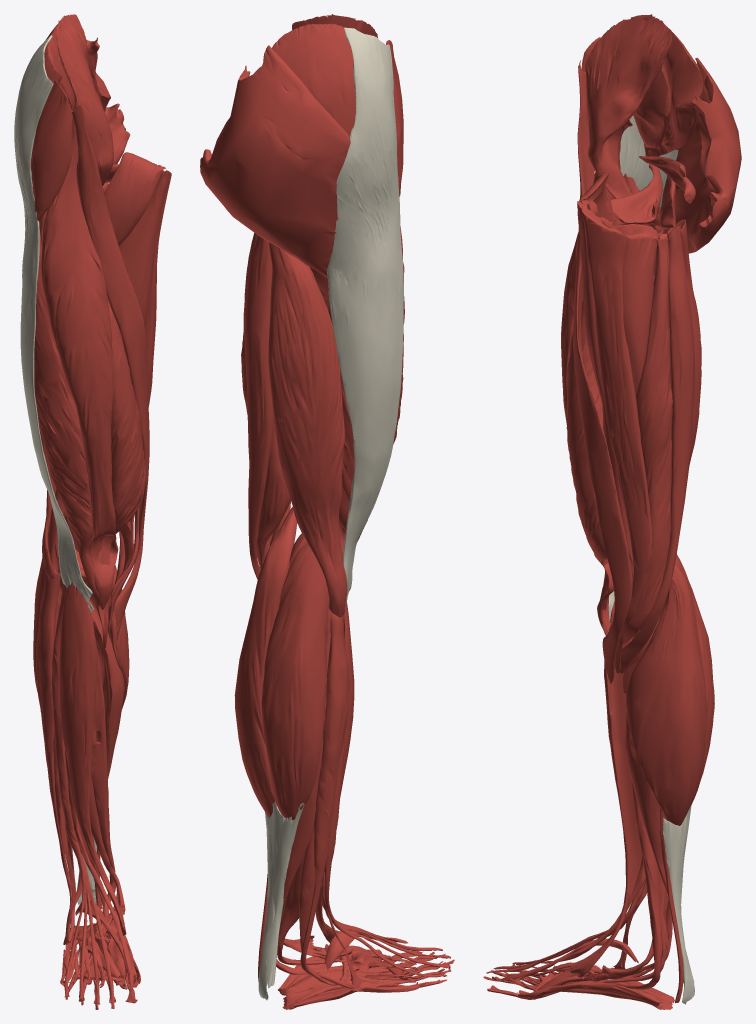
The model's file is muscular.lower_limb_right.glb.
3 renders of one model, left to right at view 1: azimuth 30°, elevation 25°; view 2: azimuth 150°, elevation 25°; view 3: azimuth 270°, elevation 25°, orthographic. The views are drawn at different scales.
Visible parts, largest first — view 1: right_rectus_femoris, right_iliotibial_tract, right_vastus_lateralis, right_sartorius, right_tibialis_anterior, right_vastus_medialis, right_extensor_digitorum_longus, right_tensor_fasciae_latae, right_iliacus, right_fibularis_longus, right_pectineus, right_adductor_longus (+19 smaller); view 2: right_iliotibial_tract, right_gluteus_maximus, long_head_of_right_biceps_femoris, lateral_head_of_right_gastrocnemius, medial_head_of_right_gastrocnemius, right_semitendinosus, right_fibularis_longus, right_gluteus_medius, right_calcaneal_tendon, right_semimembranosus, right_extensor_digitorum_longus, right_soleus (+11 smaller); view 3: medial_head_of_right_gastrocnemius, right_gracilis, right_semimembranosus, right_iliacus, right_sartorius, right_semitendinosus, right_gluteus_maximus, right_adductor_magnus, right_tibialis_anterior, right_vastus_medialis, right_gluteus_medius, right_rectus_femoris (+18 smaller).
Part boxes in pixels (left/top/right/bottom): right_rectus_femoris: left=41, top=120, right=118, bottom=609; right_iliotibial_tract: left=14, top=35, right=93, bottom=612; right_vastus_lateralis: left=34, top=210, right=100, bottom=607; right_sartorius: left=69, top=99, right=149, bottom=640; right_tibialis_anterior: left=59, top=582, right=126, bottom=935; right_vastus_medialis: left=98, top=299, right=146, bottom=565; right_extensor_digitorum_longus: left=52, top=583, right=114, bottom=1004; right_tensor_fasciae_latae: left=30, top=80, right=72, bottom=220; right_iliacus: left=56, top=14, right=113, bottom=186; right_fibularis_longus: left=36, top=570, right=110, bottom=943; right_pectineus: left=103, top=152, right=165, bottom=245; right_adductor_longus: left=119, top=171, right=169, bottom=323; right_iliotibial_tract: left=327, top=27, right=403, bottom=604; right_gluteus_maximus: left=200, top=45, right=350, bottom=278; long_head_of_right_biceps_femoris: left=268, top=242, right=347, bottom=617; lateral_head_of_right_gastrocnemius: left=261, top=543, right=329, bottom=820; medial_head_of_right_gastrocnemius: left=234, top=507, right=297, bottom=817; right_semitendinosus: left=244, top=235, right=274, bottom=579; right_fibularis_longus: left=300, top=613, right=353, bottom=985; right_gluteus_medius: left=272, top=23, right=355, bottom=136; right_calcaneal_tendon: left=258, top=802, right=304, bottom=1000; right_semimembranosus: left=241, top=233, right=290, bottom=569; right_extensor_digitorum_longus: left=324, top=614, right=450, bottom=977; right_soleus: left=283, top=608, right=331, bottom=901; medial_head_of_right_gastrocnemius: left=626, top=562, right=706, bottom=825; right_gracilis: left=581, top=205, right=652, bottom=673; right_semimembranosus: left=622, top=233, right=672, bottom=644; right_iliacus: left=585, top=14, right=672, bottom=229; right_sartorius: left=573, top=60, right=632, bottom=683; right_semitendinosus: left=620, top=225, right=694, bottom=673; right_gluteus_maximus: left=653, top=58, right=741, bottom=274; right_adductor_magnus: left=602, top=224, right=663, bottom=581; right_tibialis_anterior: left=566, top=601, right=642, bottom=976; right_vastus_medialis: left=566, top=300, right=608, bottom=610; right_gluteus_medius: left=659, top=26, right=702, bottom=155; right_rectus_femoris: left=561, top=119, right=632, bottom=635.
Size of the model in its own units: 0.1676 by 1.03 by 0.2463.
